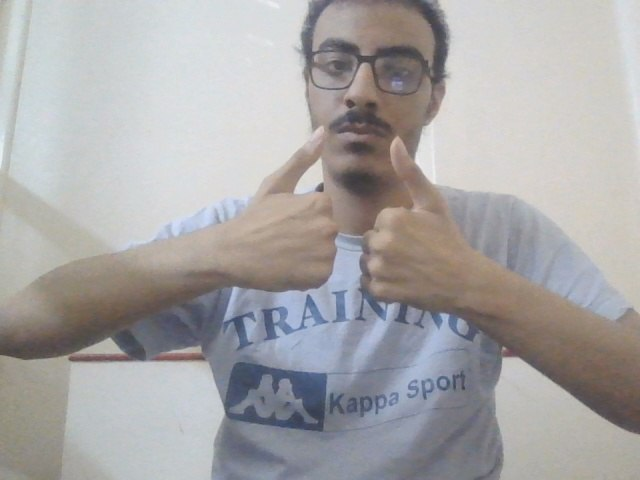Game: (225, 123, 478, 320)
